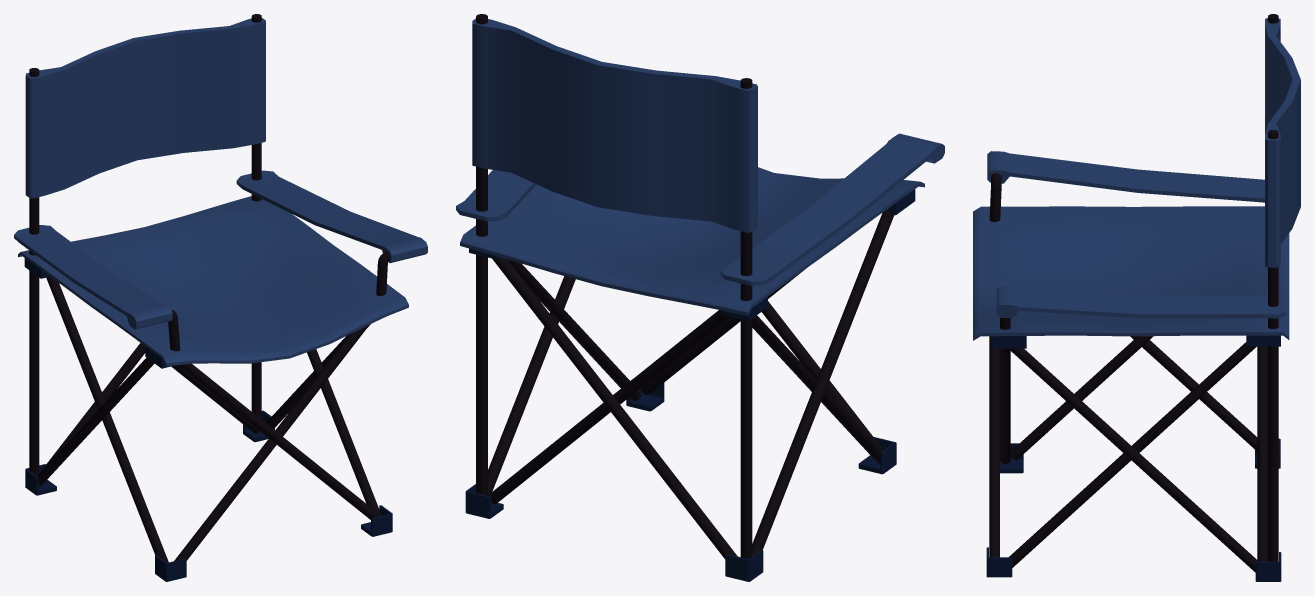
Rendered from M_Sem04_Prop_Chair_SBoewing 1.fbx.
3 views of the same model, side by side, from view 1: azimuth 30°, elevation 25°; view 2: azimuth 150°, elevation 25°; view 3: azimuth 270°, elevation 25° (orthographic). The views are drawn at different scales.
Visible parts, largest first — view 1: stickjoint; view 2: stickjoint; view 3: stickjoint.
Part boxes in pixels (box(x1,y1,x2,y2)): stickjoint: box(14, 14, 427, 581); stickjoint: box(456, 14, 944, 581); stickjoint: box(973, 14, 1300, 581).
Size of the model in its own units: 68.11 by 91.56 by 61.19.
